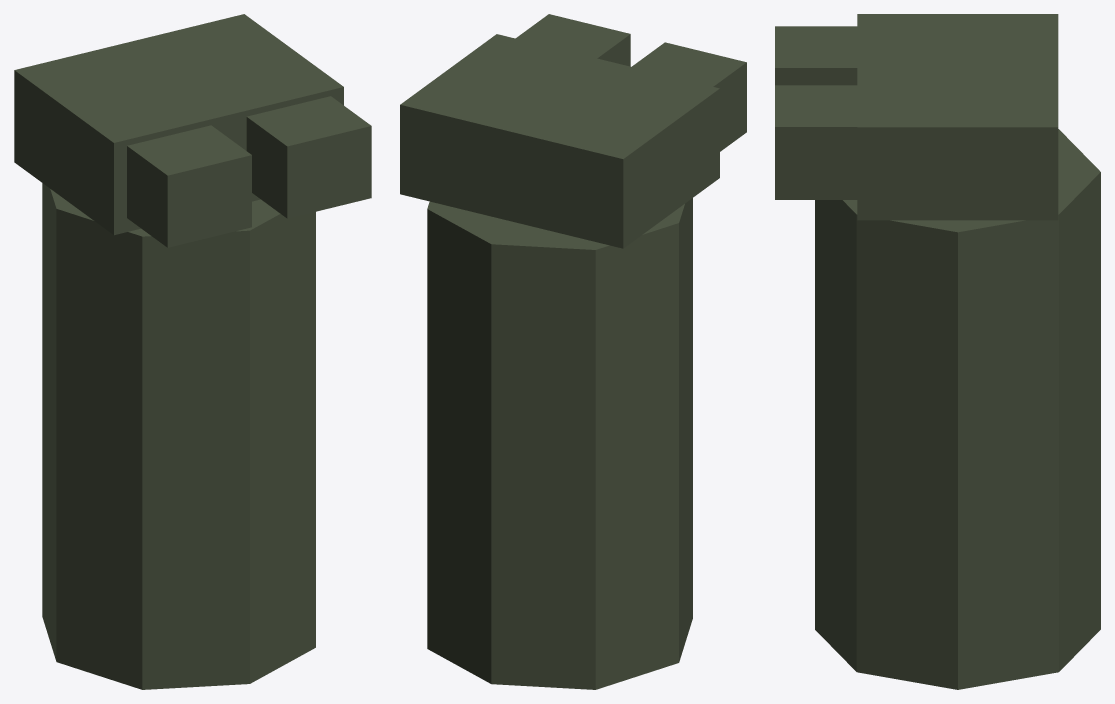
Rendered from Bastion_AdvancedGunTower_LOD1.obj.
The picture shows the model from 3 angles, left to right: view 1: azimuth 30°, elevation 25°; view 2: azimuth 150°, elevation 25°; view 3: azimuth 270°, elevation 25°; orthographic projection. The views are drawn at different scales.
Parts seen in each view (by area): view 1: Bastion_AdvancedGunTower_LOD1; view 2: Bastion_AdvancedGunTower_LOD1; view 3: Bastion_AdvancedGunTower_LOD1.
Part boxes in pixels (box(x1,y1,x2,y2)): Bastion_AdvancedGunTower_LOD1: box(14, 14, 371, 689); Bastion_AdvancedGunTower_LOD1: box(400, 14, 746, 689); Bastion_AdvancedGunTower_LOD1: box(775, 14, 1100, 689).
Size of the model in its own units: 3.2 by 6.9 by 3.65.
Materials: 1 (1 with a texture image).
